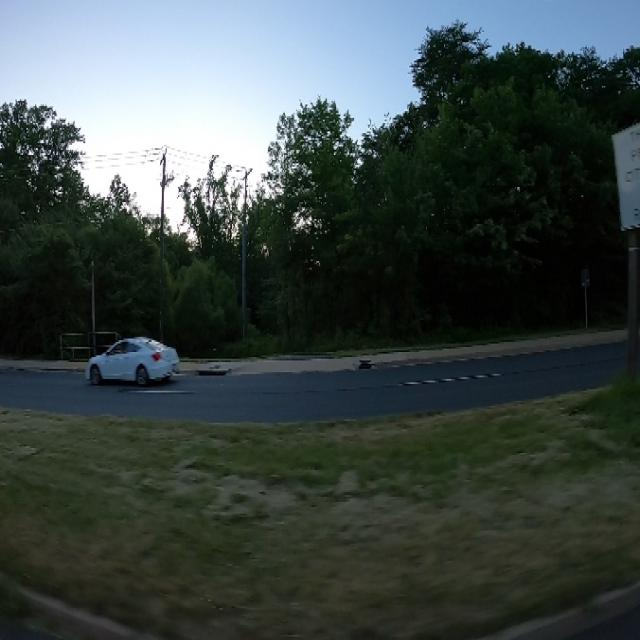cars: (73, 323, 184, 407)
